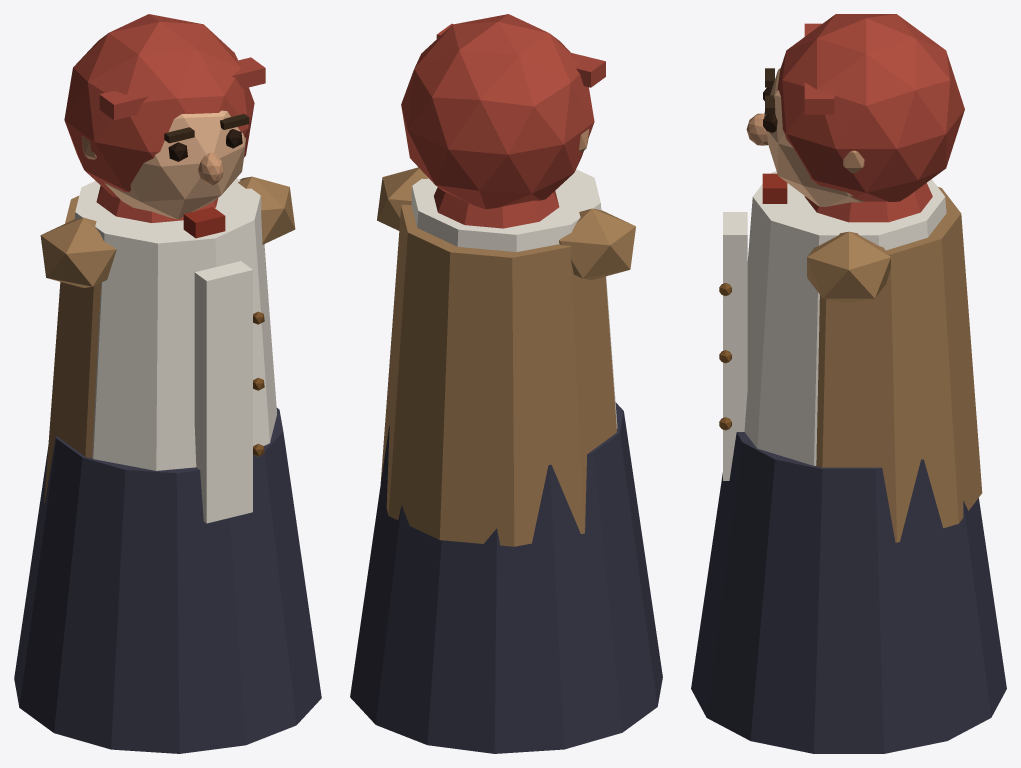
Rendered from insan_k2k_govde.glb.
3 renders of one model, left to right at view 1: azimuth 30°, elevation 25°; view 2: azimuth 150°, elevation 25°; view 3: azimuth 270°, elevation 25°, orthographic.
Parts seen in each view (by area): view 1: Cone; view 2: Cone; view 3: Cone.
Part boxes in pixels (box(x1,y1,x2,y2)): Cone: box(14, 14, 321, 753); Cone: box(350, 14, 662, 753); Cone: box(691, 14, 1006, 753).
Bounding box in the file's own units: 0.1248 × 0.2998 × 0.128.
